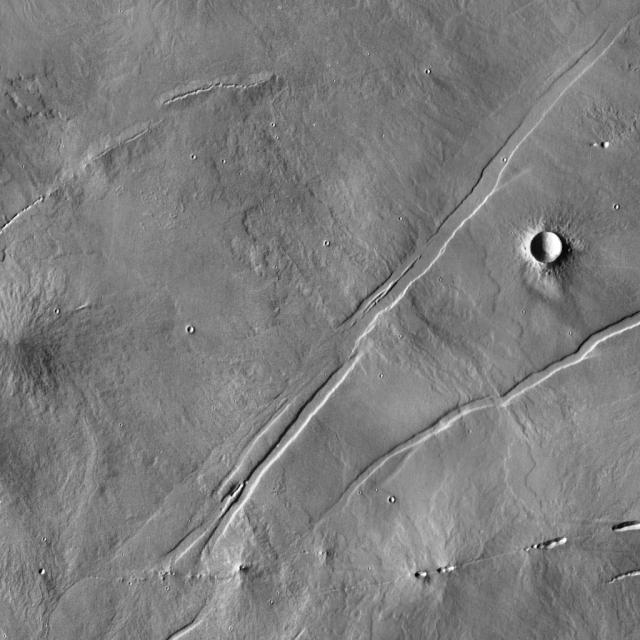crater: (535, 232, 566, 263), (184, 320, 190, 326)
